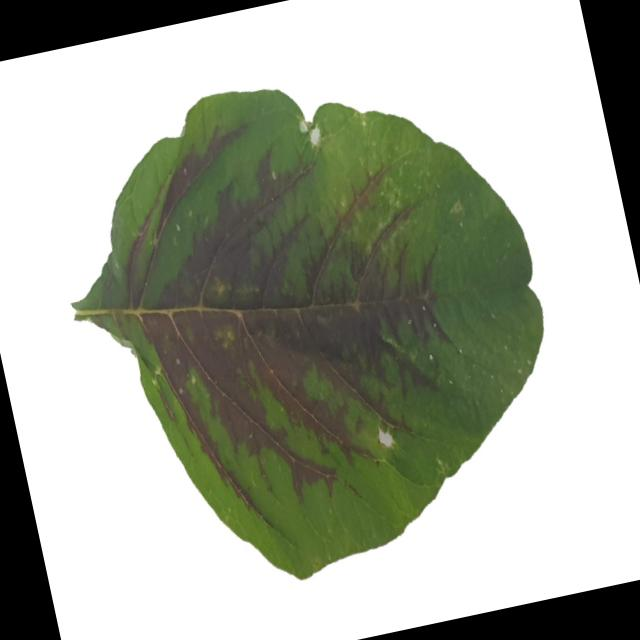Medicinal-Arive Dantu: (36, 32, 587, 611)
